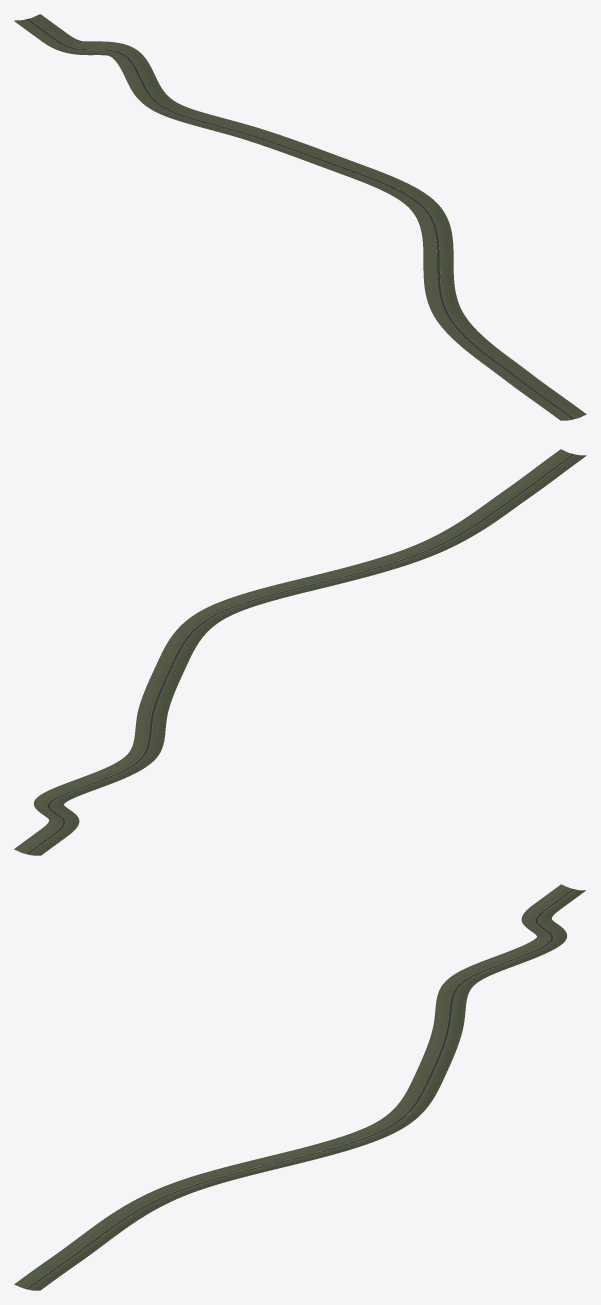
File: HighWay-01.fbx
The picture shows the model from 3 angles, top to bottom: view 1: azimuth 30°, elevation 25°; view 2: azimuth 150°, elevation 25°; view 3: azimuth 330°, elevation 25°; orthographic projection.
Parts seen in each view (by area): view 1: Highway-01-b, Highway-01; view 2: Highway-01-b, Highway-01; view 3: Highway-01-b, Highway-01.
Part boxes in pixels (x1,y1,x2,y2): Highway-01-b: (355,169,586,420); Highway-01: (14,14,374,178); Highway-01-b: (163,449,586,653); Highway-01: (14,650,192,855); Highway-01-b: (14,1089,437,1290); Highway-01: (408,884,585,1092).
Bounding box in the file's own units: 697 × 16.55 × 5000.
